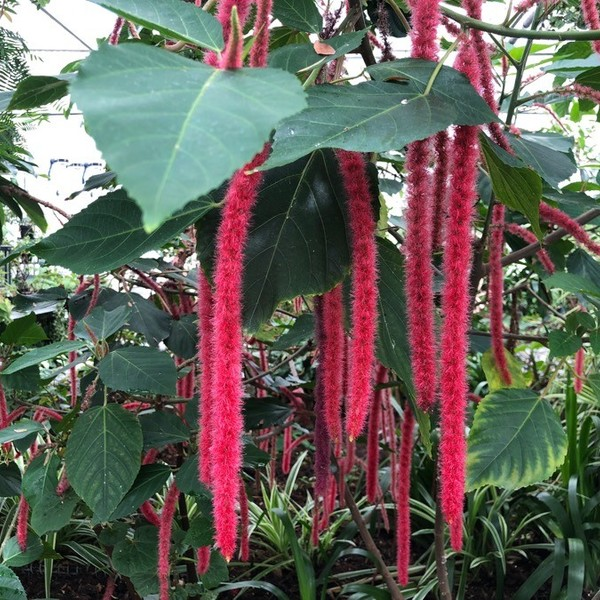obstacle: (64, 59, 500, 229), (47, 215, 183, 509), (454, 379, 570, 576), (250, 479, 420, 569)
